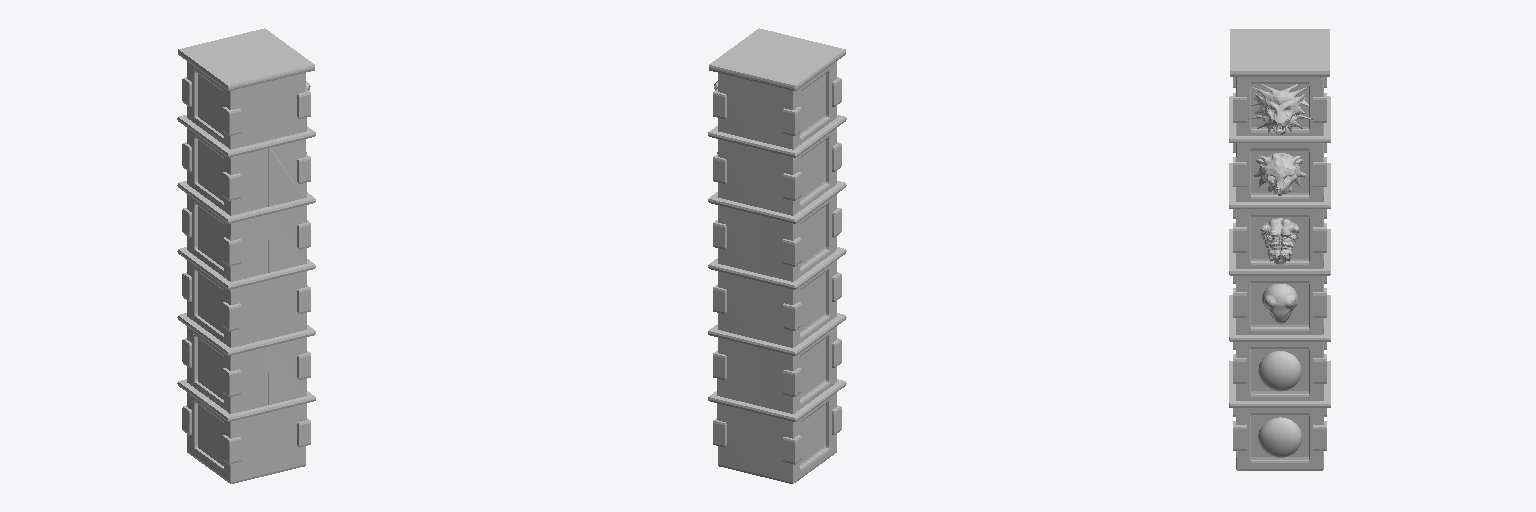
File: aztec.obj
3 renders of one model, left to right at view 1: azimuth 30°, elevation 25°; view 2: azimuth 150°, elevation 25°; view 3: azimuth 270°, elevation 25°, orthographic.
Visible parts, largest first — view 1: Cube; view 2: Cube; view 3: Cube.
Boxes of the visible parts, box(x1,y1,x2,y2) form: Cube: box(177, 28, 315, 483); Cube: box(708, 28, 846, 483); Cube: box(1229, 29, 1330, 470).
Bounding box in the file's own units: 16.03 × 57.71 × 13.25.